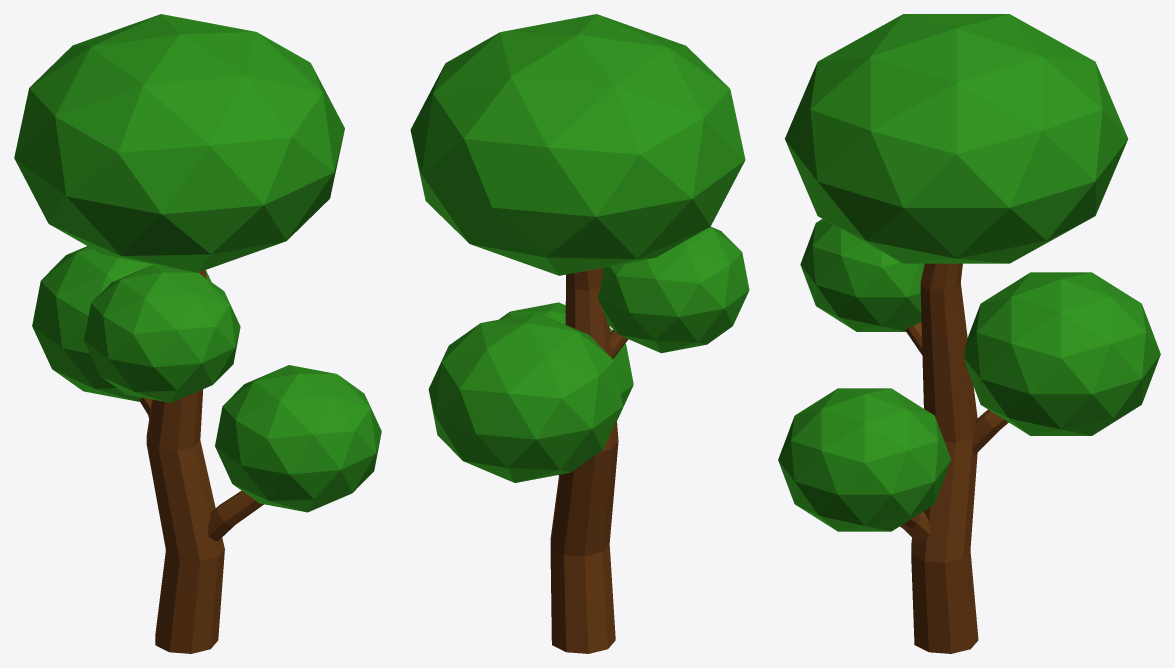
The model's file is Tree1.fbx.
3 renders of one model, left to right at view 1: azimuth 30°, elevation 25°; view 2: azimuth 150°, elevation 25°; view 3: azimuth 270°, elevation 25°, orthographic.
Parts seen in each view (by area): view 1: tree; view 2: tree; view 3: tree.
Boxes of the visible parts, box(x1,y1,x2,y2) form: tree: box(14, 14, 381, 653); tree: box(410, 14, 749, 653); tree: box(778, 14, 1160, 653).
Bounding box in the file's own units: 1005 × 2043 × 1159.
